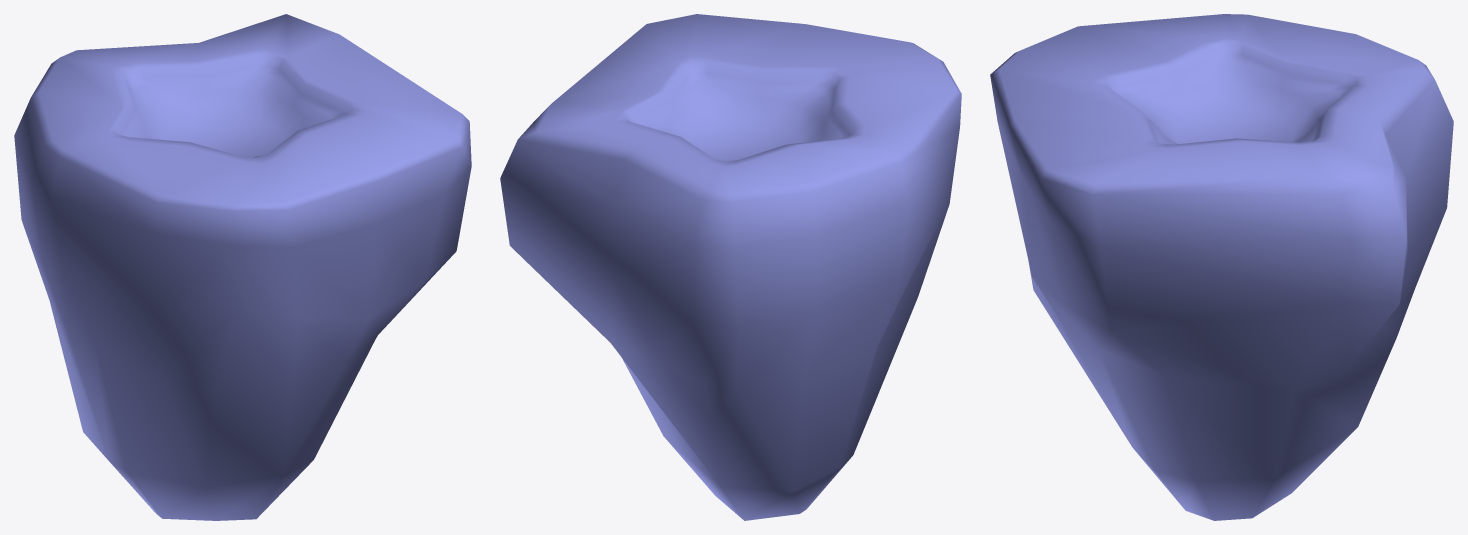
The model's file is Land_06_low.fbx.
3 views of the same model, side by side, from view 1: azimuth 30°, elevation 25°; view 2: azimuth 150°, elevation 25°; view 3: azimuth 270°, elevation 25° (orthographic). The views are drawn at different scales.
Visible parts, largest first — view 1: Land_06_low; view 2: Land_06_low; view 3: Land_06_low.
Boxes of the visible parts, x1,y1,x2,y2 form: Land_06_low: (14, 14, 471, 520); Land_06_low: (500, 14, 961, 520); Land_06_low: (990, 14, 1453, 520).
Bounding box in the file's own units: 1290 × 1355 × 1391.
